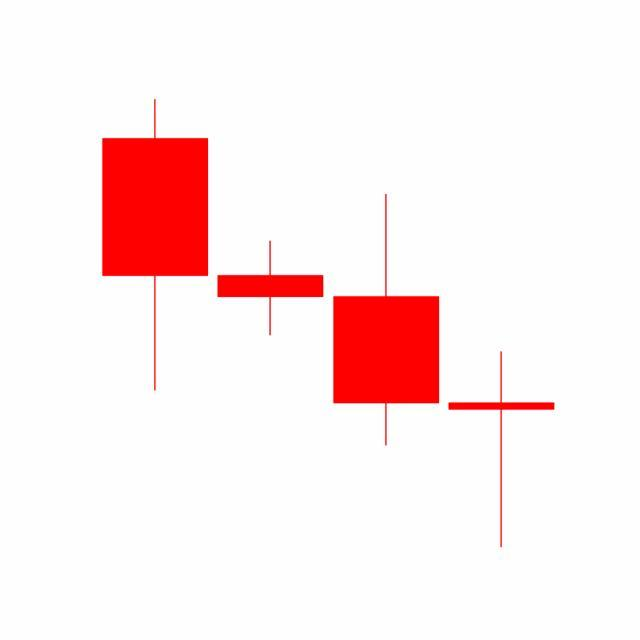Spinning Top: (444, 350, 560, 551)
